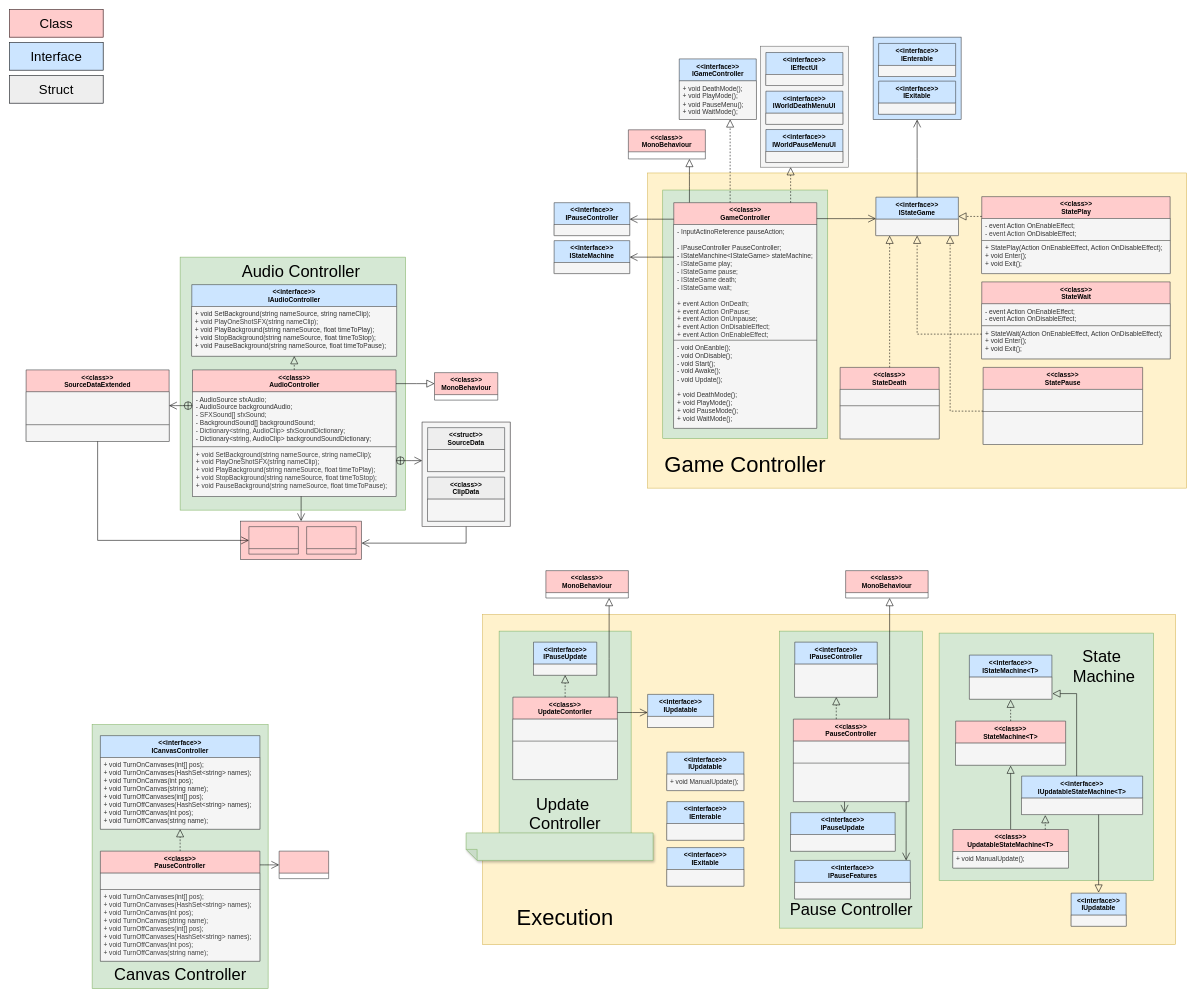
Image size: 1196x998. Some labels were removed from this diagram. The centre of each missing label's shape, as x and y in pixels:
+ AudioSource source; + Coroutine coroutine; + bool isRunning;: the point at 97,408
+ bool isPaused {get;} + void PauseGame(); + void UnpauseGame();: the point at 835,680
+ bool isPaused {get;} + void PauseGame(); + void UnpauseGame(); - void Awake();: the point at 851,782
+ SourceDataExtended(AudioSource source);: the point at 97,432
+ StateDeath(Action OnDeath); + void Enter(); + void Exit();: the point at 889,422
+ StatePause(Action OnPause, Action OnUnpause); + void Enter(); + void Exit();: the point at 1063,427
+ string name; + AudioClip clip: the point at 466,510
+ string name; + AudioSource source;: the point at 466,460
+ T currecntState{get; private set;} + void SetState(T state);: the point at 1010,754
+ T currentState {get;} + void SetState(T state);: the point at 1010,688
+ void Enter();: the point at 705,831
+ void Exit();: the point at 705,877
+ void FeatureIsPaused(bool value);: the point at 852,890
+ void ObjIsPaused(bool value);: the point at 842,842
+ void ObjIsPaused(bool value); - void Awake(); - void Start(); - void Update();: the point at 564,760
- bool objIsPosed; - IUpdatable[] updatable;: the point at 564,730
- Canvas[] canvases: the point at 180,881
- event Action OnDeath;: the point at 889,397
- event Action OnPause; - event Action OnUnpause;: the point at 1063,400
- IPauseUpdate[] pauseUpdate; - IPauseFeatures[] features;: the point at 851,752
<<class>> AudioClip: the point at 331,540
<<class>> AudioSource: the point at 273,540
<<class>> Canvas: the point at 304,865
Update controller work only if have child obj IUpdatable: the point at 559,847
